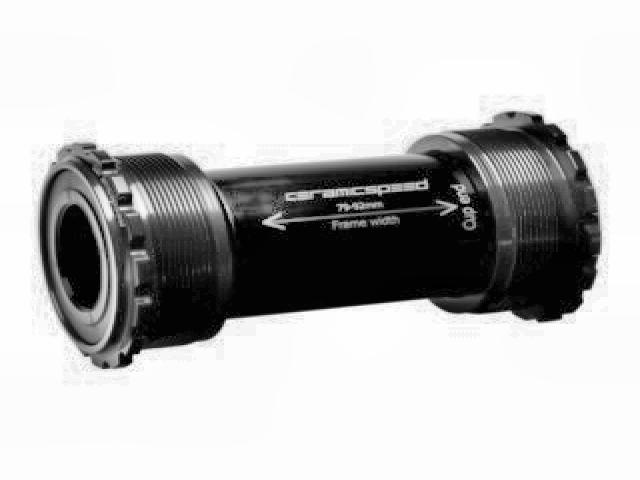bottom_bracket: (33, 107, 602, 371)
